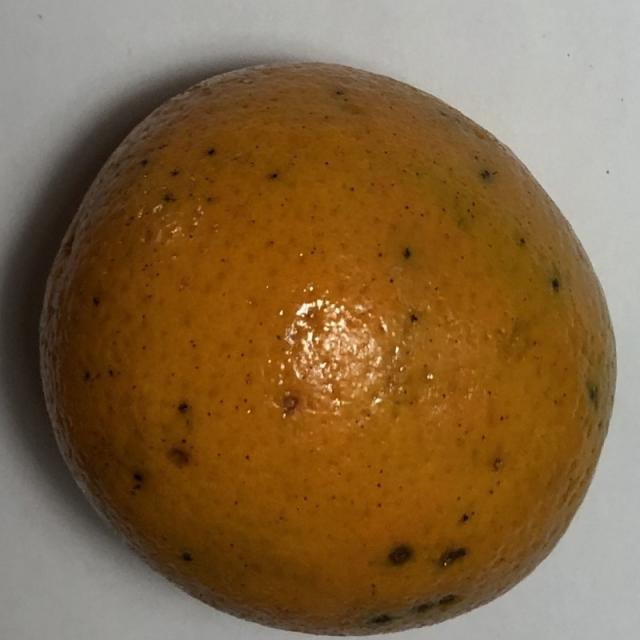blackspot: (20, 42, 635, 640)
